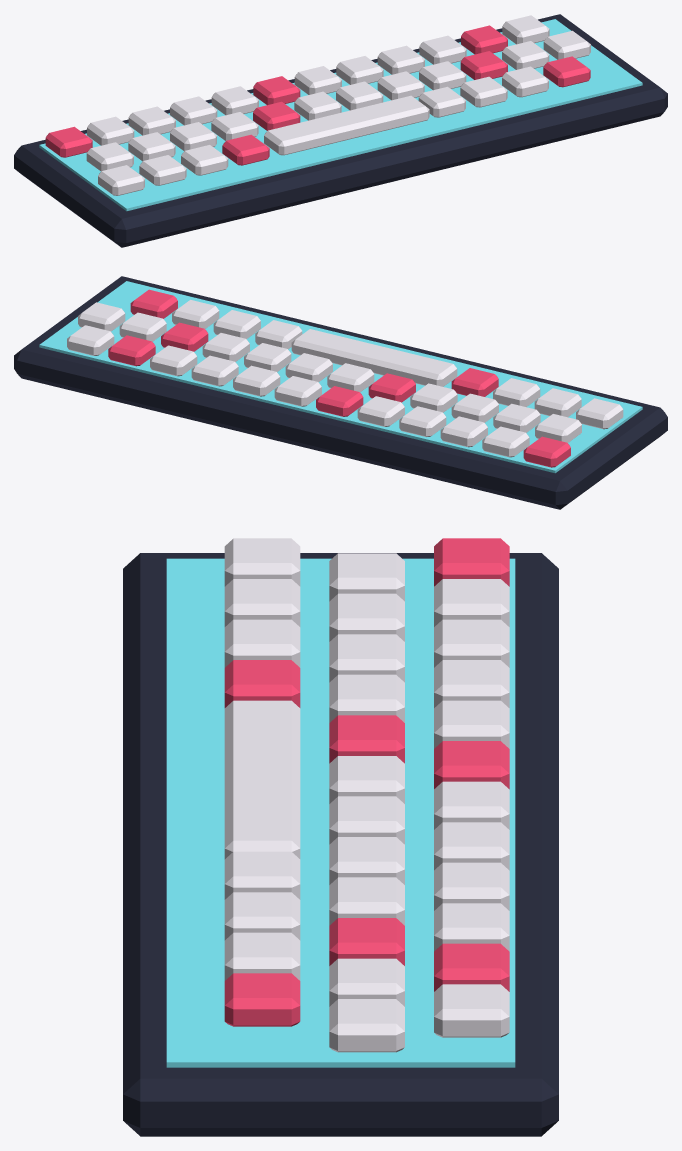
Rendered from keyboard.glb.
3 renders of one model, top to bottom at view 1: azimuth 30°, elevation 25°; view 2: azimuth 150°, elevation 25°; view 3: azimuth 270°, elevation 25°, orthographic. The views are drawn at different scales.
Visible parts, largest first — view 1: pc_keyboard, rgb; view 2: pc_keyboard, rgb; view 3: pc_keyboard, rgb.
Boxes of the visible parts, x1,y1,x2,y2 form: pc_keyboard: (14, 14, 667, 247); rgb: (39, 19, 642, 211); pc_keyboard: (14, 276, 667, 509); rgb: (39, 281, 642, 473); pc_keyboard: (123, 538, 558, 1136); rgb: (166, 558, 515, 1067).
Size of the model in its own units: 0.44 by 0.034 by 0.15.
